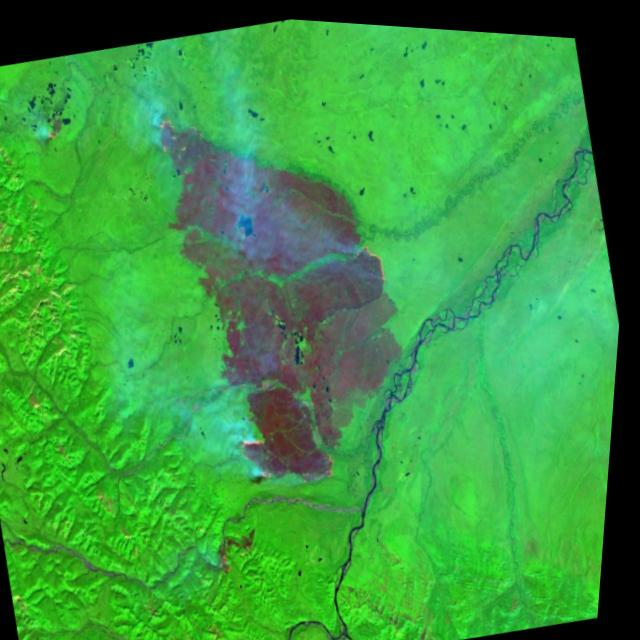fire: (224, 399, 353, 505), (134, 83, 220, 179), (347, 218, 398, 289), (36, 98, 81, 158)
